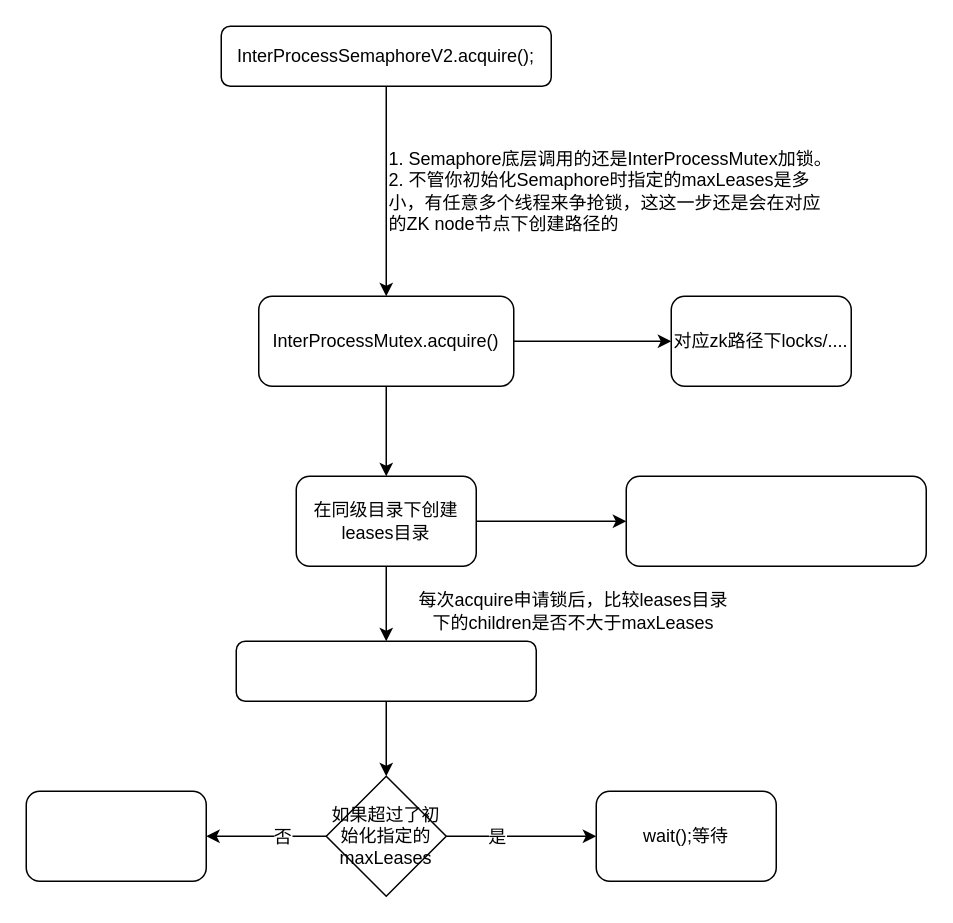
Some shapes in this 953 by 923 pixel diagram are drawn without their labels. Each missing label, with the centre of its shape:
"children.size() <= maxLeases" belongs at [385,670].
"同时在该node添加watch，用于notifyAll()" belongs at [775,520].
"跳出死循环，执行下一个加锁逻辑" belongs at [115,835].
